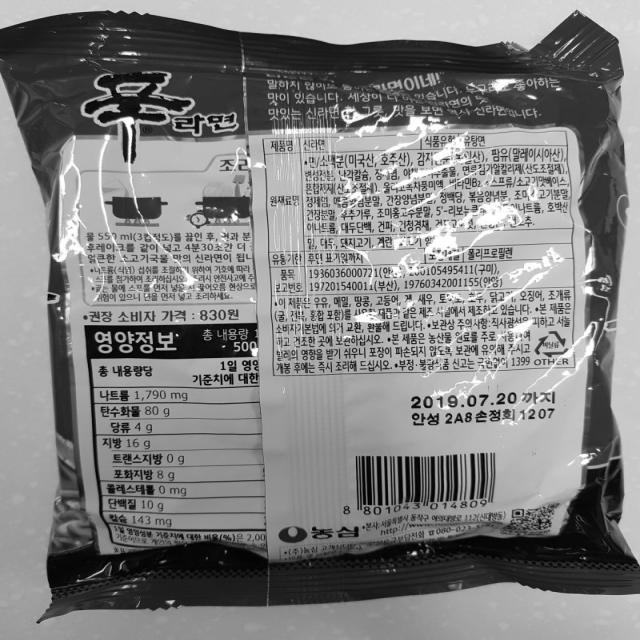Nutrition Label: (72, 308, 287, 557)
